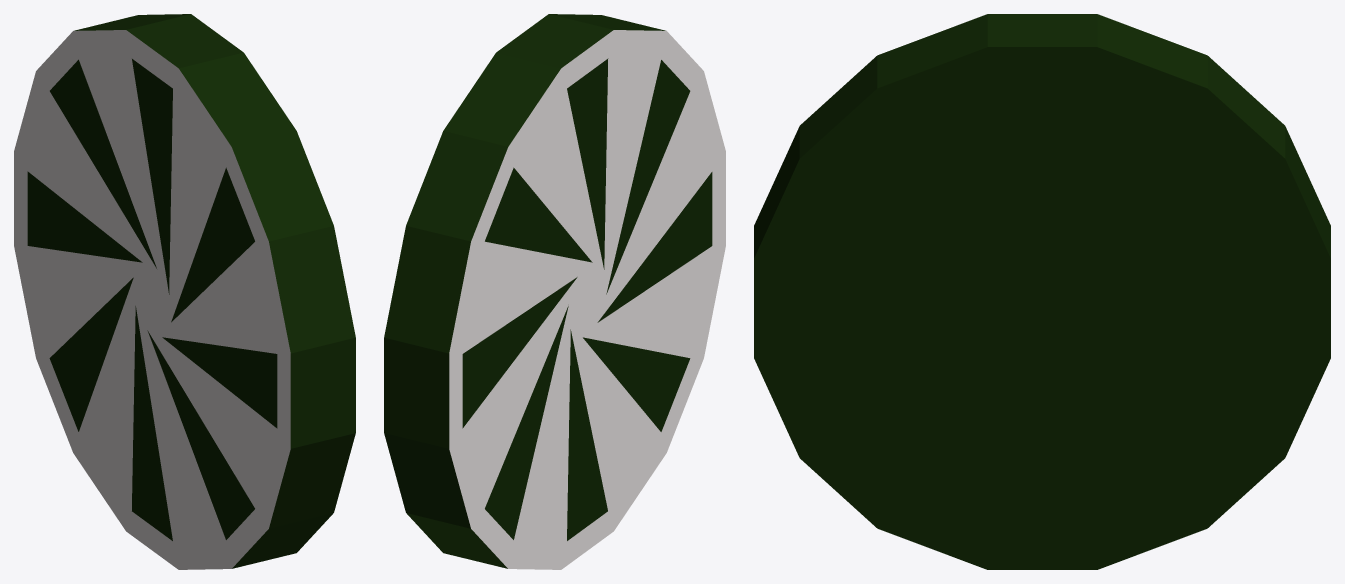
Rendered from Train_BigWheel.obj.
3 views of the same model, side by side, from view 1: azimuth 30°, elevation 25°; view 2: azimuth 150°, elevation 25°; view 3: azimuth 270°, elevation 25° (orthographic). The views are drawn at different scales.
Parts seen in each view (by area): view 1: Cylinder.006_Material.001; view 2: Cylinder.006_Material.001; view 3: Cylinder.006_Material.001.
Part boxes in pixels (x1,y1,x2,y2): Cylinder.006_Material.001: [14, 14, 355, 569]; Cylinder.006_Material.001: [384, 14, 725, 569]; Cylinder.006_Material.001: [754, 14, 1330, 569].
Size of the model in its own units: 0.1181 by 0.8689 by 0.8689.
